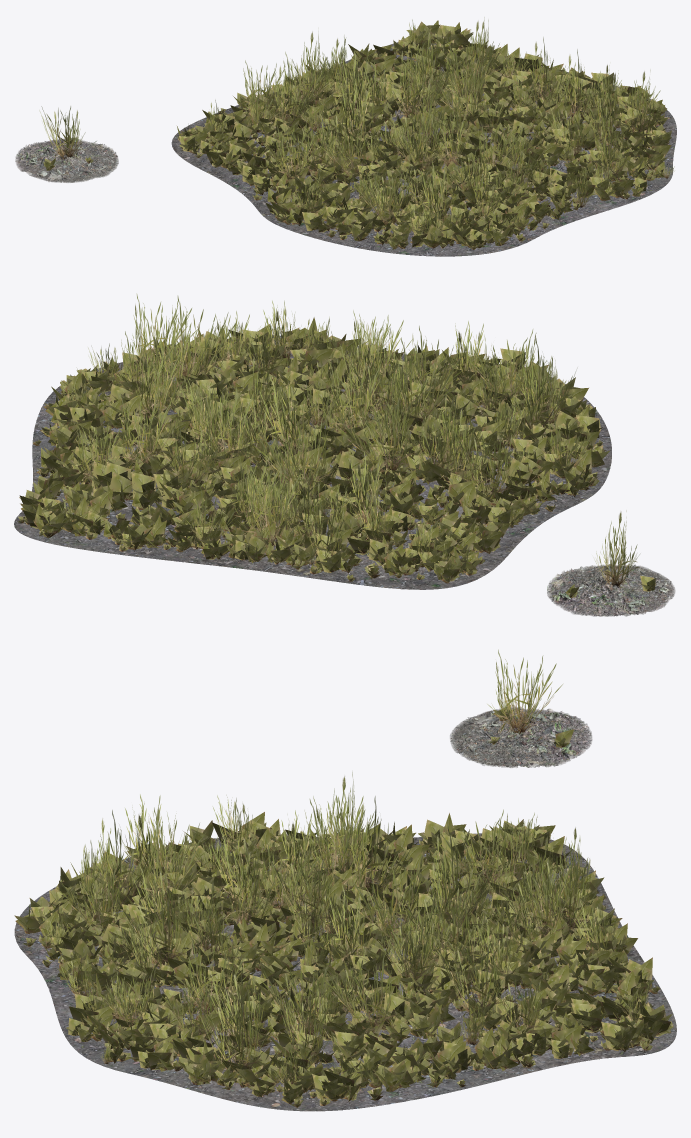
File: simple_grass_chunks.glb
The picture shows the model from 3 angles, top to bottom: view 1: azimuth 30°, elevation 25°; view 2: azimuth 150°, elevation 25°; view 3: azimuth 270°, elevation 25°; orthographic projection. The views are drawn at different scales.
Parts seen in each view (by area): view 1: Forest001, rostlinka_7c_scater, ground_close_04, rostlinka_07_ground_rostlinka_07_ground_0, rostlinka_07c; view 2: Forest001, rostlinka_7c_scater, ground_close_04, rostlinka_07_ground_rostlinka_07_ground_0, rostlinka_07c; view 3: Forest001, rostlinka_7c_scater, ground_close_04, rostlinka_07_ground_rostlinka_07_ground_0, rostlinka_07c.
Part boxes in pixels (box(x1,y1,x2,y2)): Forest001: box(177, 20, 671, 249); rostlinka_7c_scater: box(191, 17, 674, 234); ground_close_04: box(171, 42, 676, 256); rostlinka_07_ground_rostlinka_07_ground_0: box(15, 137, 118, 182); rostlinka_07c: box(39, 106, 85, 160); Forest001: box(17, 317, 609, 583); rostlinka_7c_scater: box(59, 293, 593, 567); ground_close_04: box(14, 335, 611, 589); rostlinka_07_ground_rostlinka_07_ground_0: box(547, 564, 675, 616); rostlinka_07c: box(595, 511, 638, 590); Forest001: box(14, 812, 673, 1107); rostlinka_7c_scater: box(45, 772, 652, 1087); ground_close_04: box(14, 833, 676, 1111); rostlinka_07_ground_rostlinka_07_ground_0: box(450, 706, 592, 767); rostlinka_07c: box(487, 649, 562, 734).
Bounding box in the file's own units: 3.75 × 0.7453 × 2.76.
Materials: 4 (4 with a texture image).
